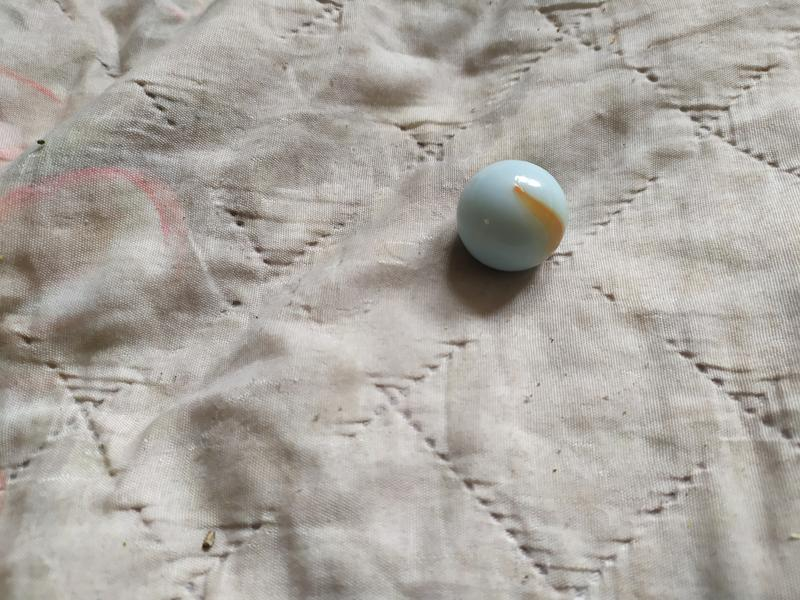Warning: (454, 157, 571, 275)
